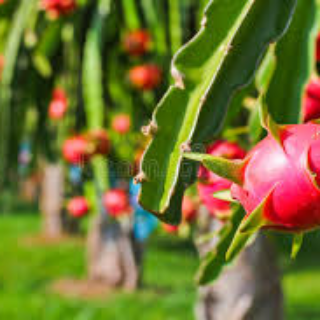thanh_long: (229, 120, 320, 240)
